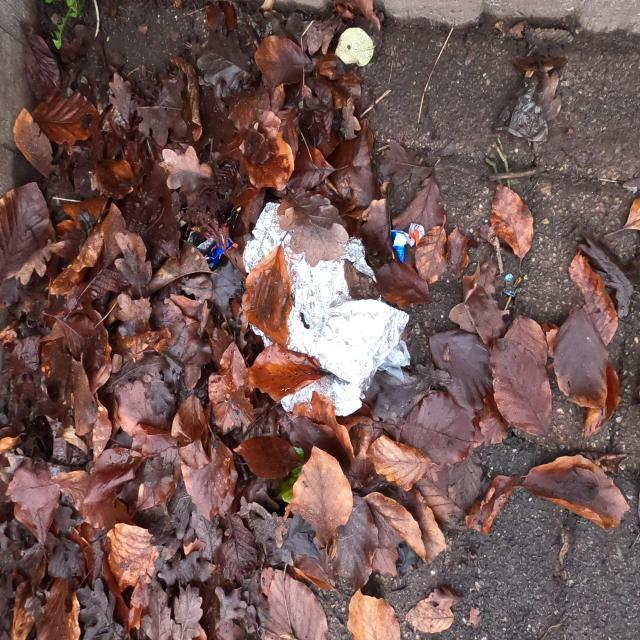Paper: (378, 340, 410, 382)
Plastic: (243, 202, 409, 418), (196, 218, 238, 268), (390, 220, 425, 264)
